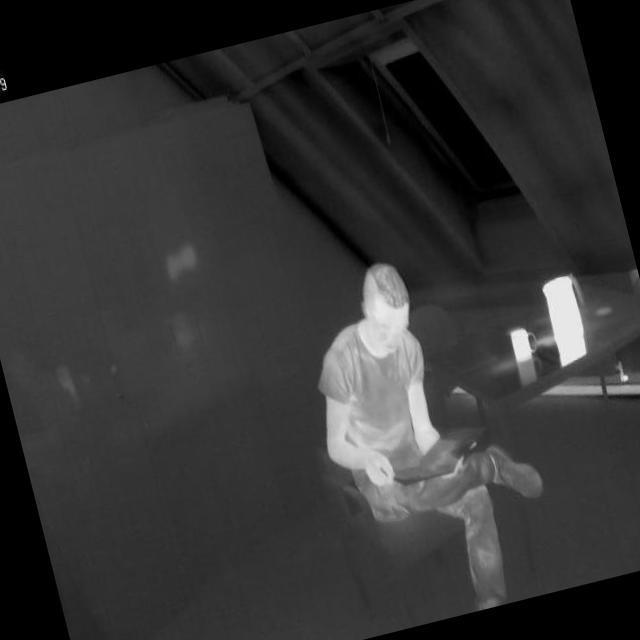person: (283, 230, 572, 637)
